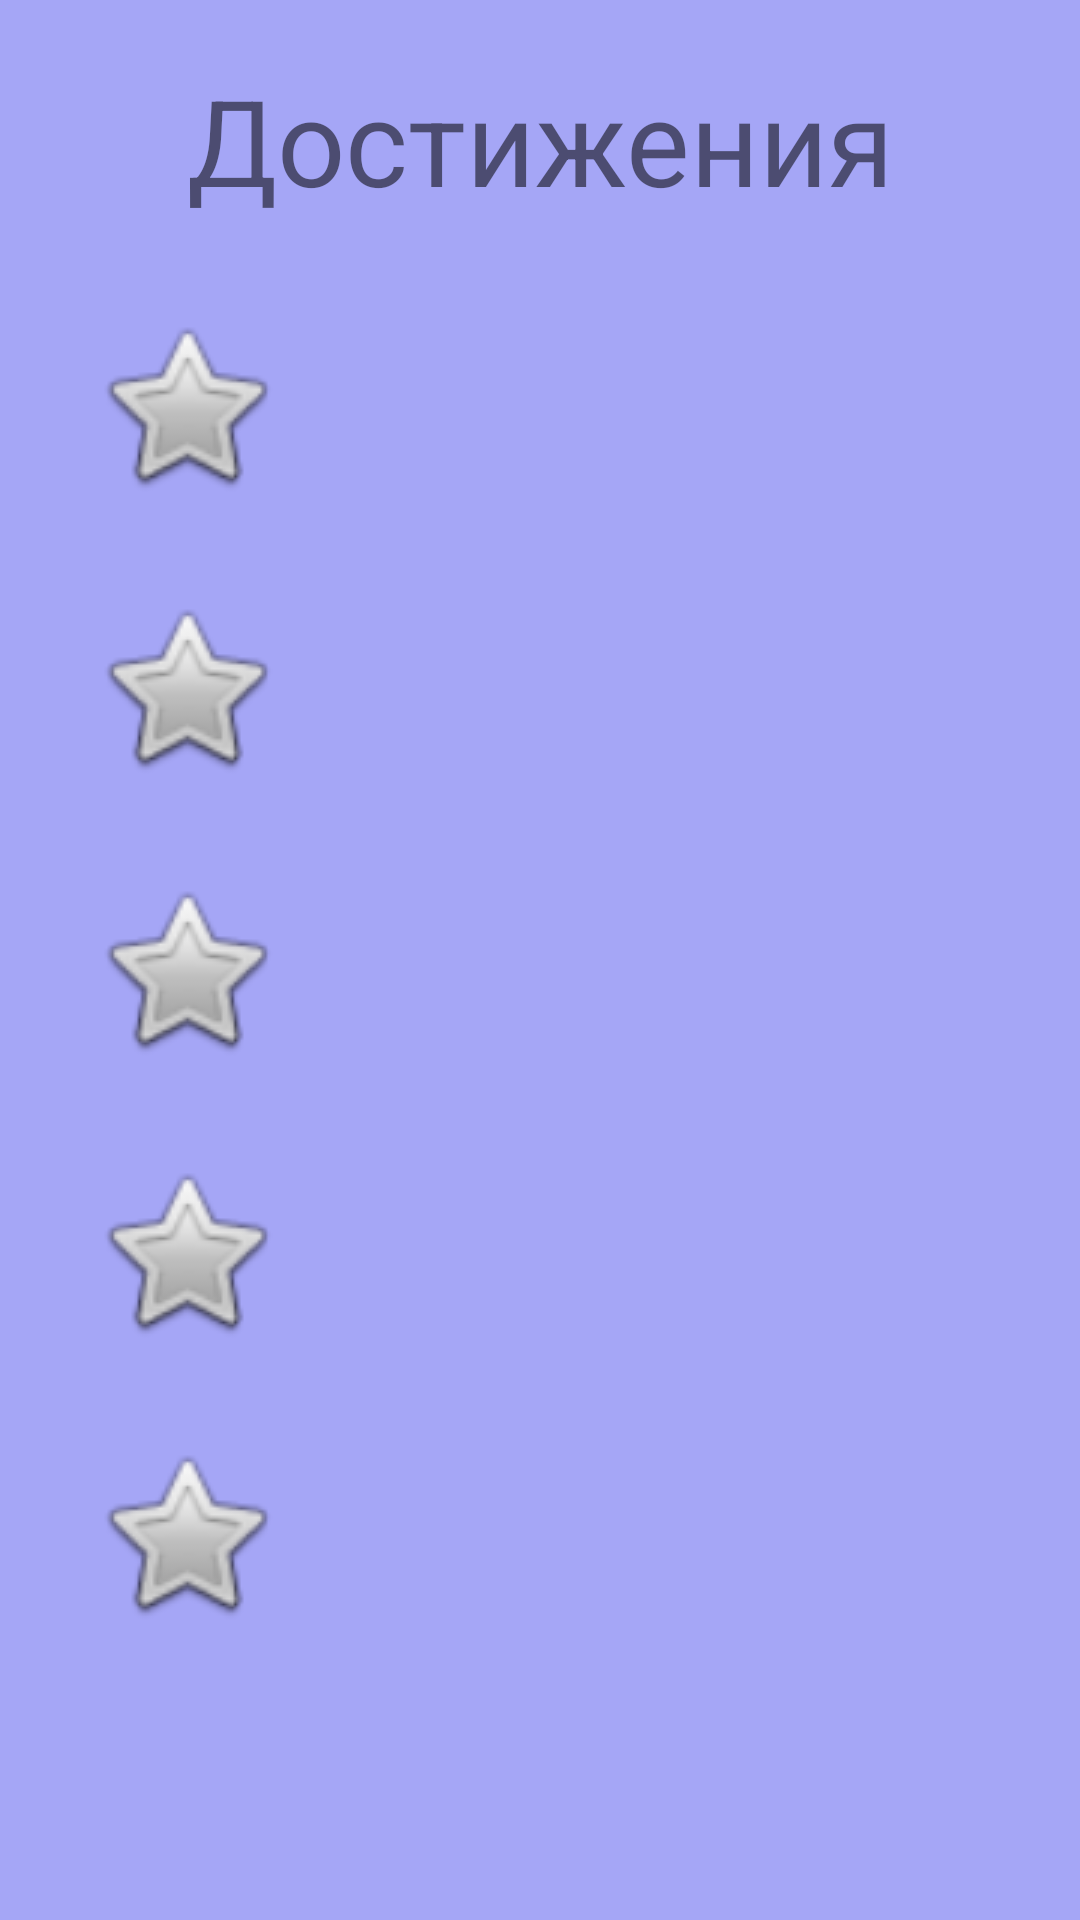

Icons on this 1080px×1920px Android screen, each with its box as [x1, y1, x2, y2]:
star off: [107, 329, 268, 486], [107, 611, 268, 768], [107, 893, 268, 1050], [107, 1175, 268, 1332], [107, 1457, 268, 1614]
